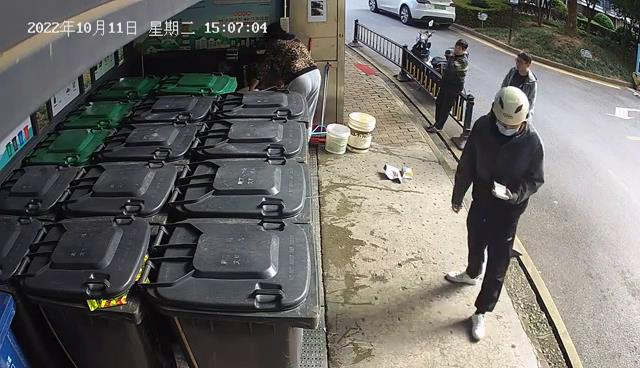person: (442, 84, 549, 344), (238, 19, 326, 152), (425, 37, 473, 136)
zhizhipin: (381, 160, 403, 186), (400, 163, 415, 182)
